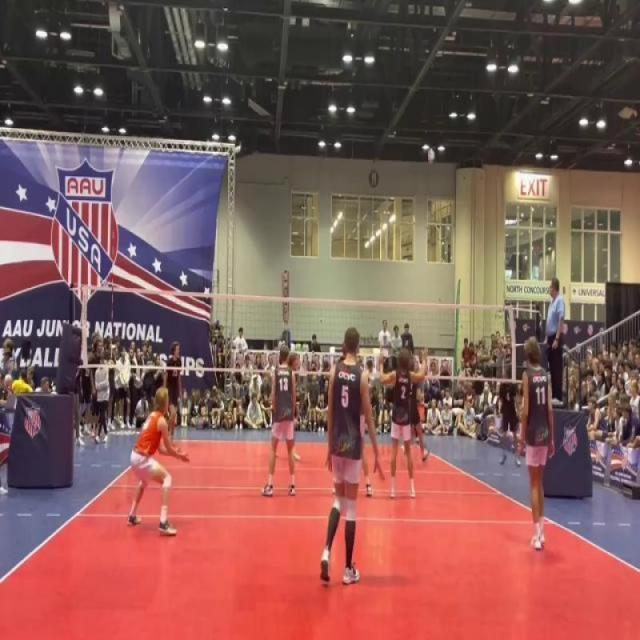volleyball: (427, 144, 435, 167)
